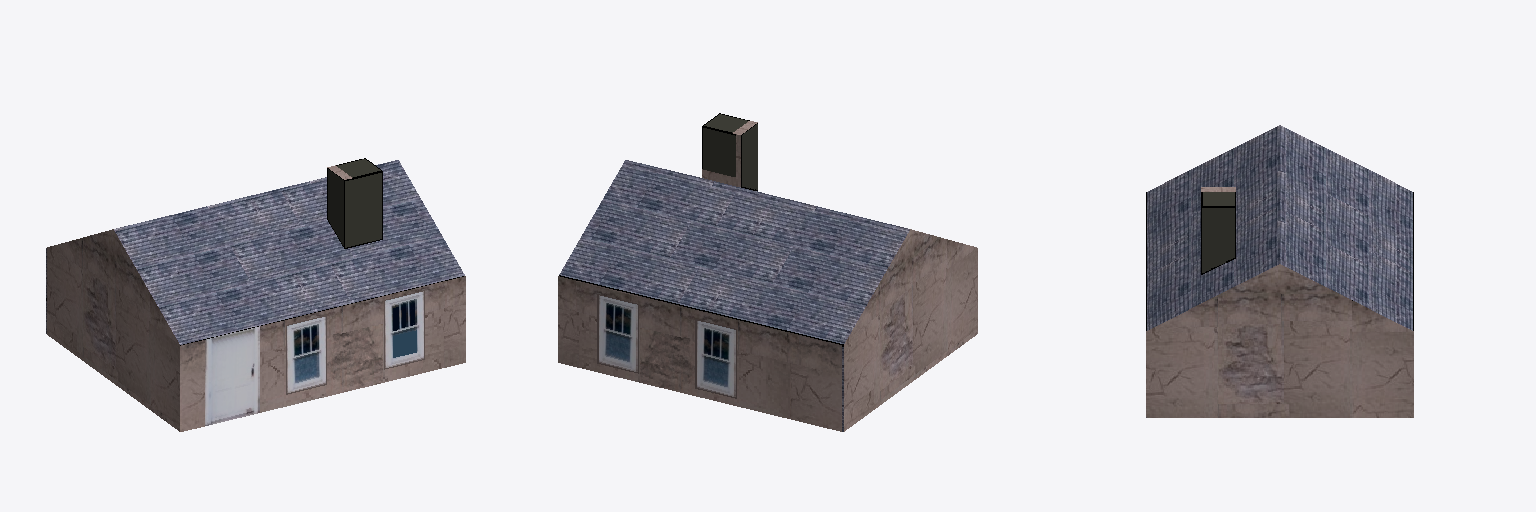
3 views of the same model, side by side, from view 1: azimuth 30°, elevation 25°; view 2: azimuth 150°, elevation 25°; view 3: azimuth 270°, elevation 25° (orthographic).
Visible parts, largest first — view 1: cube2_copy18; view 2: cube2_copy18; view 3: cube2_copy18.
Part boxes in pixels (x1,y1,x2,y2): cube2_copy18: (46,158,465,431); cube2_copy18: (558,113,977,431); cube2_copy18: (1146,125,1413,417).
Bounding box in the file's own units: 1.08 × 0.6725 × 0.882.
Materials: 1 (1 with a texture image).